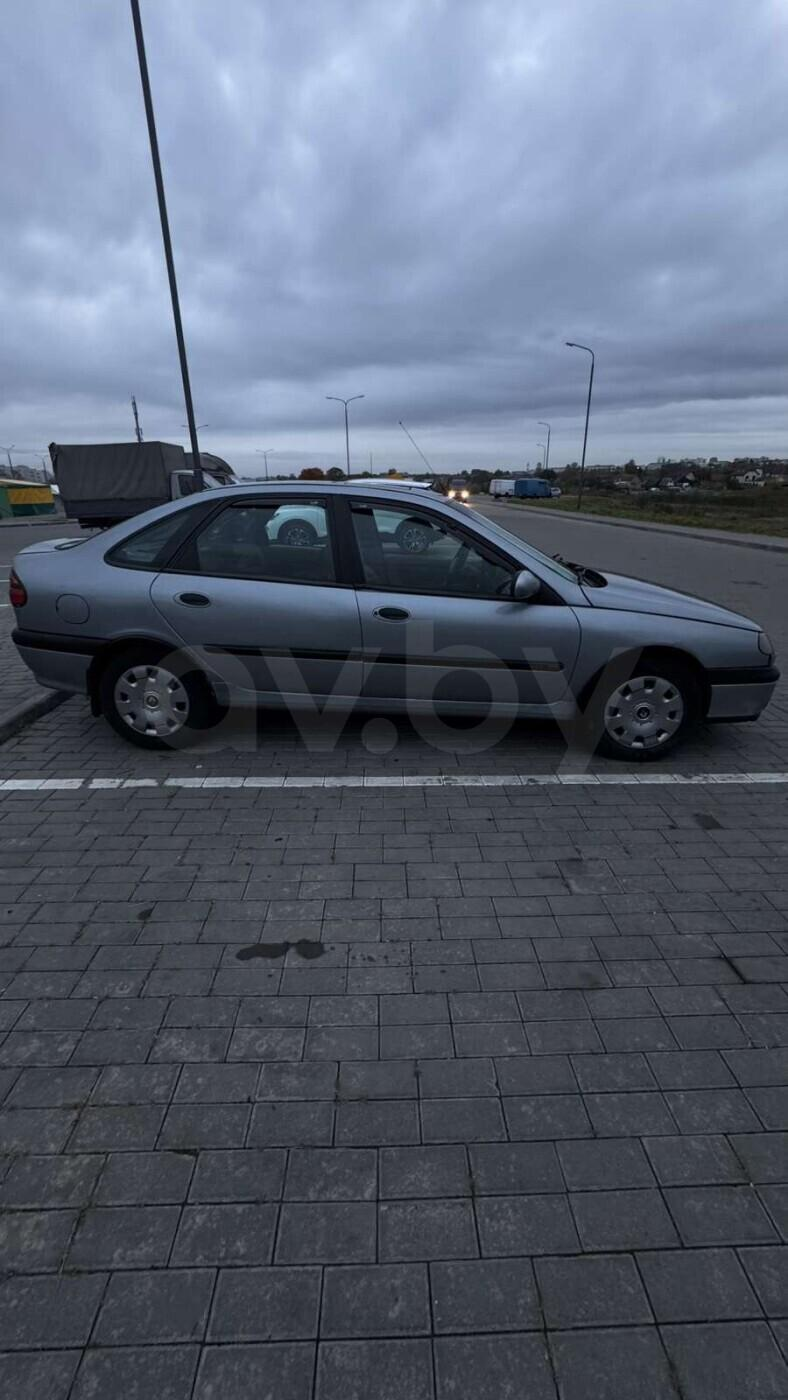Laguna_1998-2001: (10, 464, 788, 762)
